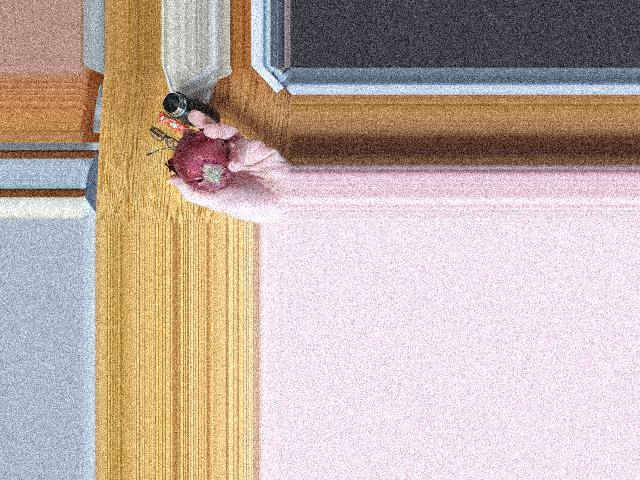onion: (173, 133, 225, 189)
